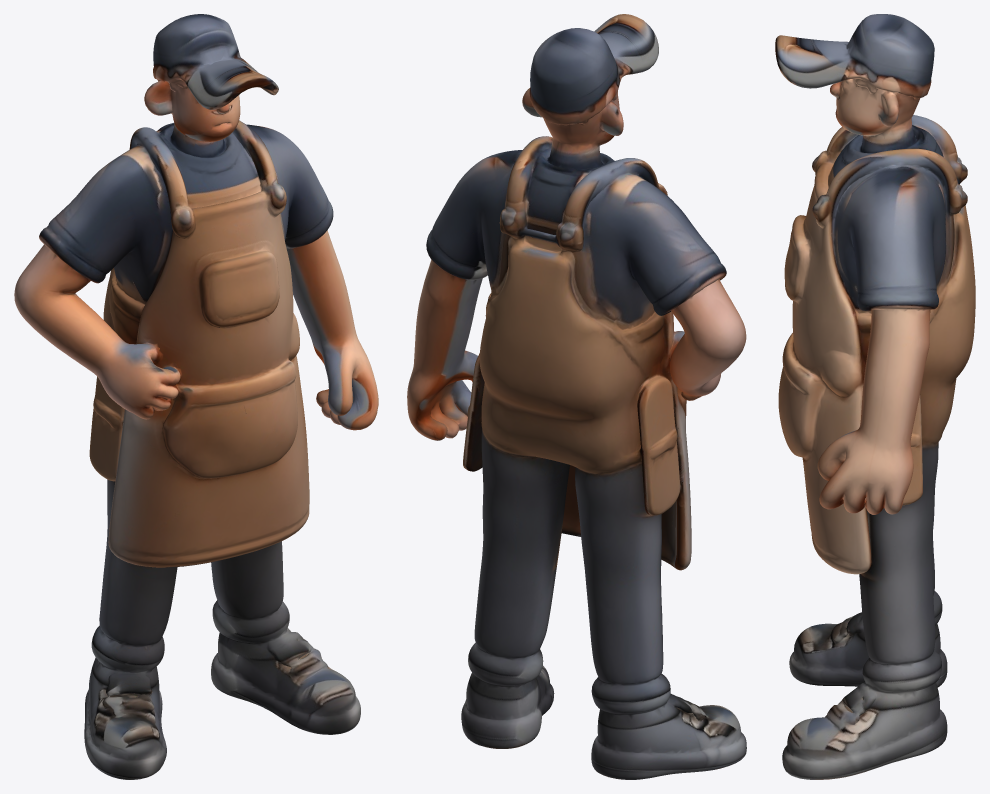
File: citizen-teen2.glb
3 views of the same model, side by side, from view 1: azimuth 30°, elevation 25°; view 2: azimuth 150°, elevation 25°; view 3: azimuth 270°, elevation 25° (orthographic). The views are drawn at different scales.
Parts seen in each view (by area): view 1: tripo_node_1e40703e-5402-4744-be12-677af8c3a404; view 2: tripo_node_1e40703e-5402-4744-be12-677af8c3a404; view 3: tripo_node_1e40703e-5402-4744-be12-677af8c3a404.
Part boxes in pixels (x1,y1,x2,y2): tripo_node_1e40703e-5402-4744-be12-677af8c3a404: (14, 14, 378, 779); tripo_node_1e40703e-5402-4744-be12-677af8c3a404: (407, 14, 746, 779); tripo_node_1e40703e-5402-4744-be12-677af8c3a404: (775, 14, 975, 779).
Size of the model in its own units: 0.4932 by 0.9999 by 0.2571.
1 material, 1 textured.
